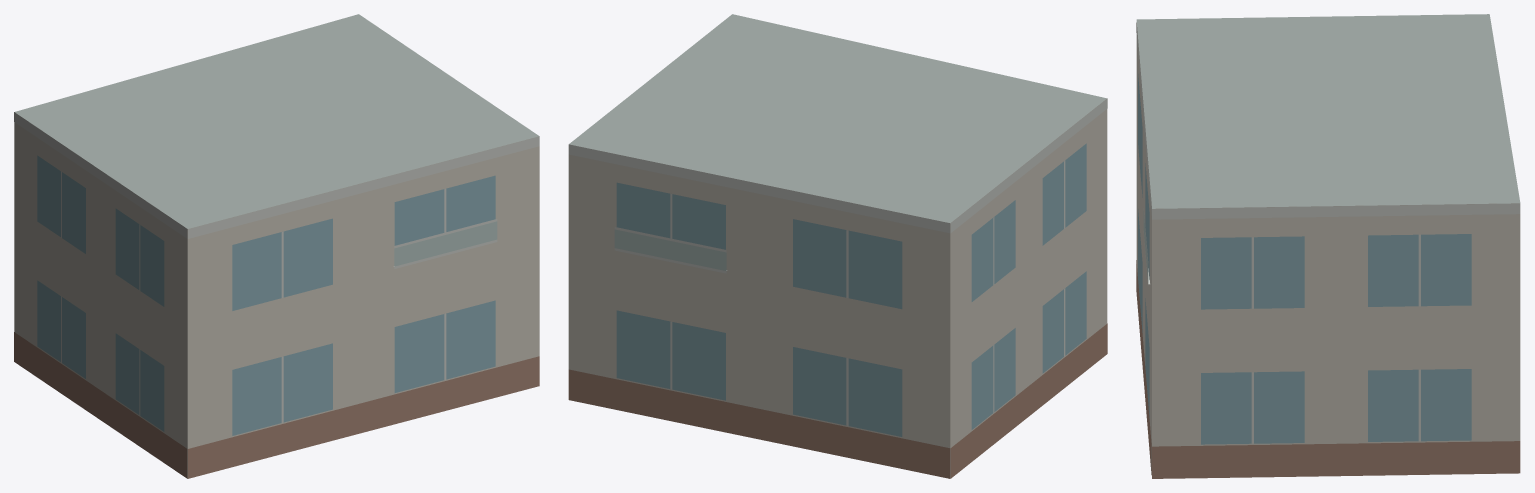
File: survey-upis-32517295.glb
3 renders of one model, left to right at view 1: azimuth 30°, elevation 25°; view 2: azimuth 150°, elevation 25°; view 3: azimuth 270°, elevation 25°, orthographic. The views are drawn at different scales.
Parts seen in each view (by area): view 1: survey-upis-32517295.tmp; view 2: survey-upis-32517295.tmp; view 3: survey-upis-32517295.tmp.
Boxes of the visible parts, box(x1,y1,x2,y2) form: survey-upis-32517295.tmp: box(14, 14, 539, 478); survey-upis-32517295.tmp: box(568, 14, 1107, 478); survey-upis-32517295.tmp: box(1136, 14, 1520, 478).
Size of the model in its own units: 9.45 by 6.1 by 7.87.
